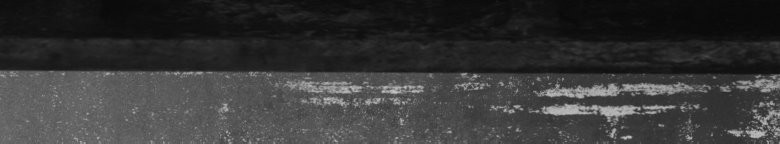kb: (4, 64, 776, 136)
